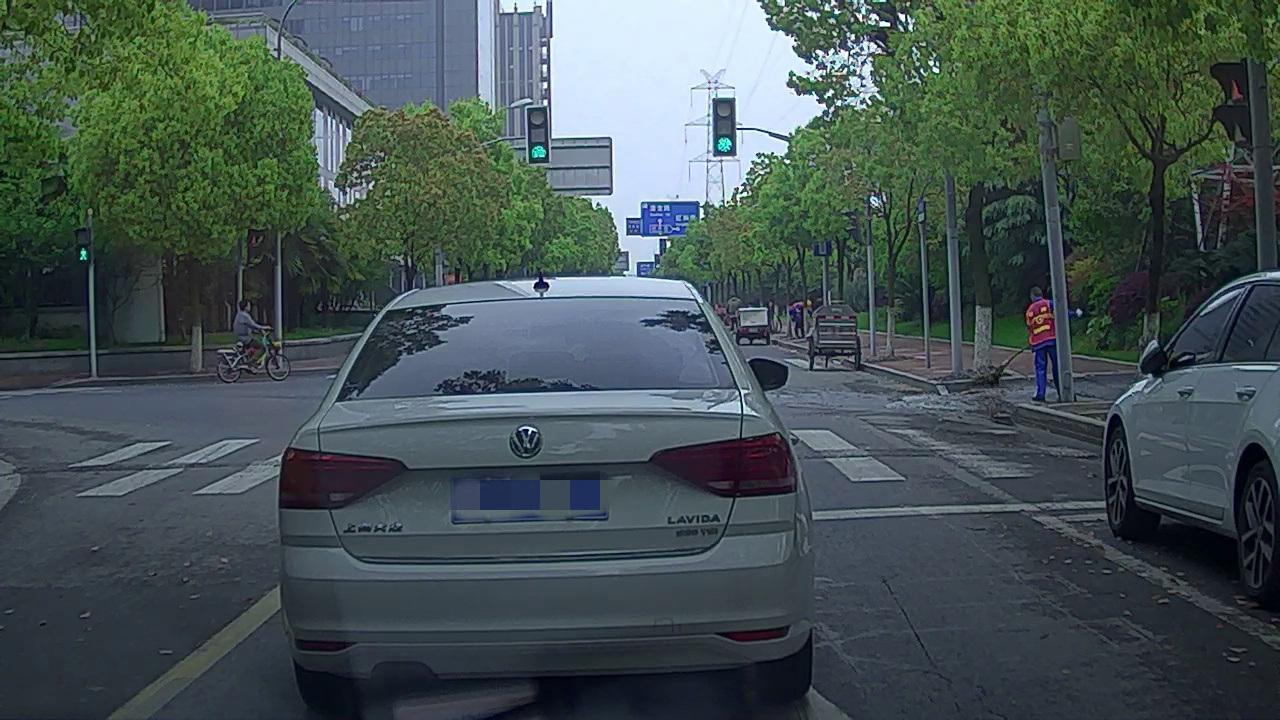traffic_light: (526, 108, 549, 164), (714, 99, 736, 156)
